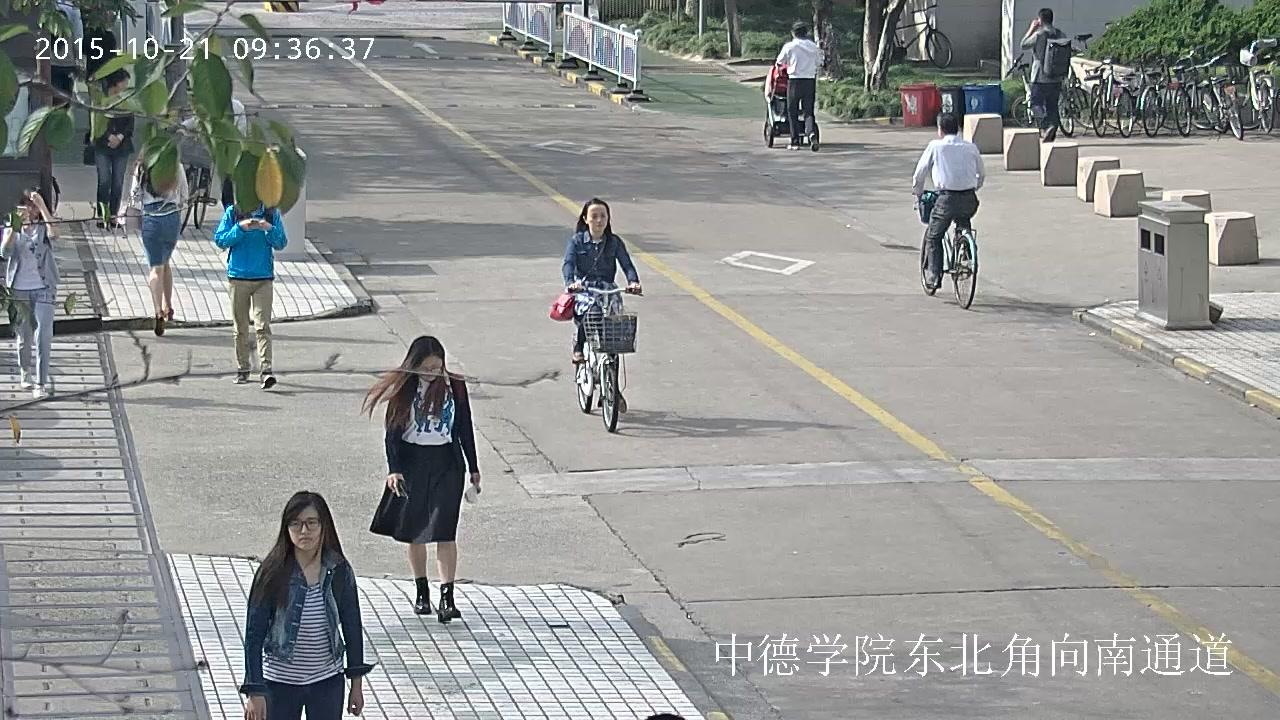face: (289, 504, 320, 550), (418, 356, 441, 380), (587, 204, 607, 231), (26, 200, 39, 218), (120, 78, 127, 91)
